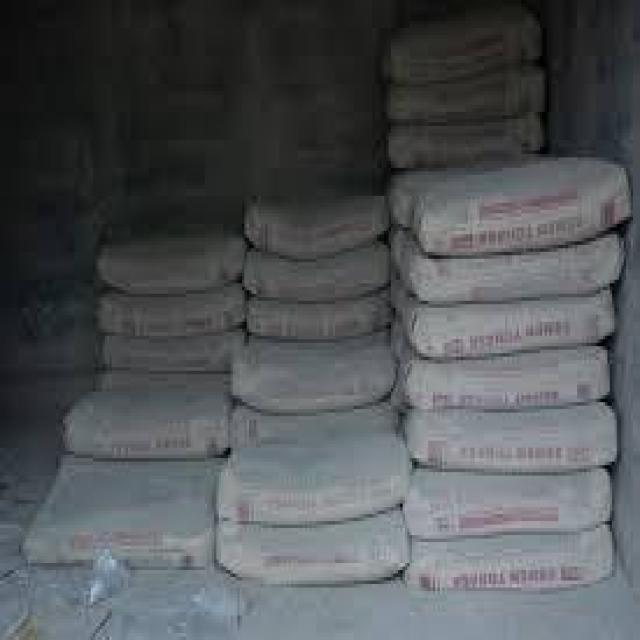gunny_bag: (426, 153, 630, 251), (31, 455, 227, 548), (422, 527, 612, 599), (417, 240, 621, 303), (423, 291, 613, 358), (70, 379, 229, 459), (414, 347, 603, 409), (222, 513, 400, 578), (418, 476, 603, 536), (421, 408, 609, 466), (231, 463, 401, 522), (402, 15, 532, 89), (104, 230, 239, 296), (254, 240, 390, 305), (256, 195, 387, 261), (242, 338, 392, 393), (405, 114, 526, 175), (107, 334, 240, 379)
